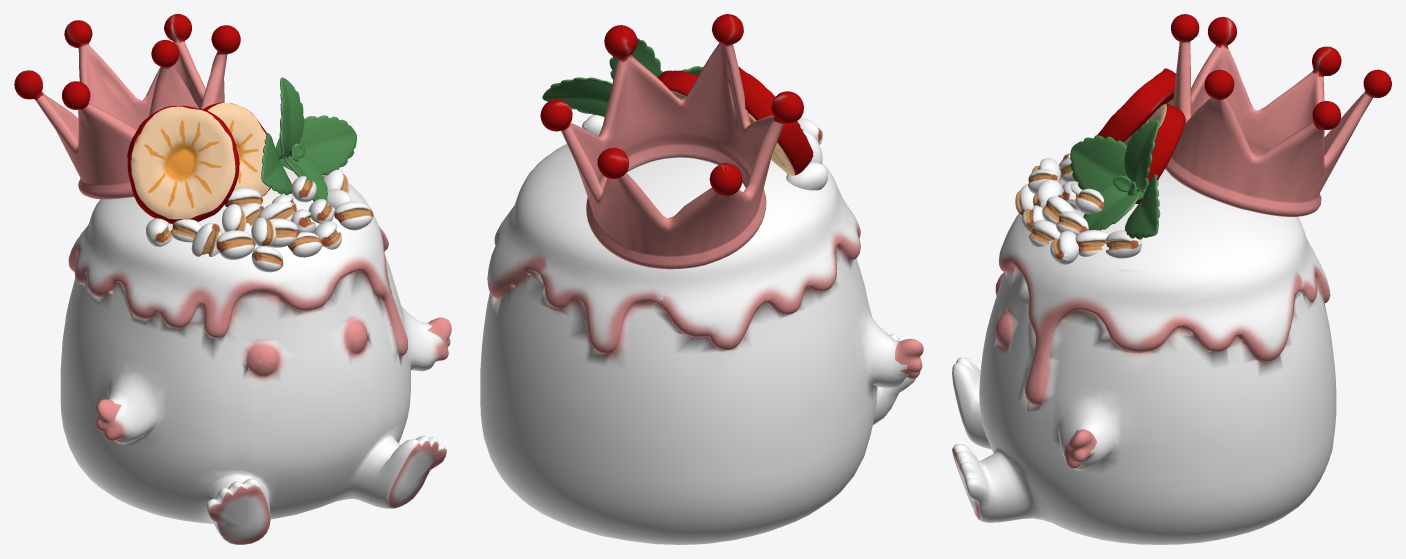
File: 清补凉精灵.glb
The picture shows the model from 3 angles, left to right: view 1: azimuth 30°, elevation 25°; view 2: azimuth 150°, elevation 25°; view 3: azimuth 270°, elevation 25°; orthographic projection. The views are drawn at different scales.
Visible parts, largest first — view 1: 身体, 皇冠, 红枣, 薄荷, 薏米.017, 薏米.018, 薏米.006, 薏米.010, 薏米.019, 薏米.011, 薏米.002, 薏米.005 (+5 smaller); view 2: 身体, 皇冠, 红枣, 薄荷, 薏米.005; view 3: 身体, 皇冠, 薄荷, 红枣, 薏米.003, 薏米.018, 薏米.007, 薏米.012, 薏米, 薏米.001, 薏米.009, 薏米.011.
Boxes of the visible parts, x1,y1,x2,y2 form: 身体: [60, 166, 451, 544]; 皇冠: [14, 14, 240, 199]; 红枣: [127, 102, 271, 223]; 薄荷: [261, 77, 356, 203]; 薏米.017: [216, 230, 255, 259]; 薏米.018: [334, 201, 373, 230]; 薏米.006: [191, 223, 222, 256]; 薏米.010: [251, 246, 283, 272]; 薏米.019: [288, 232, 322, 257]; 薏米.011: [268, 218, 299, 247]; 薏米.002: [251, 217, 276, 246]; 薏米.005: [146, 218, 172, 246]; 身体: [480, 144, 923, 544]; 皇冠: [540, 14, 803, 269]; 红枣: [657, 67, 813, 175]; 薄荷: [542, 37, 703, 117]; 薏米.005: [786, 162, 827, 190]; 身体: [952, 169, 1336, 544]; 皇冠: [1165, 14, 1391, 216]; 薄荷: [1070, 120, 1160, 239]; 红枣: [1097, 68, 1185, 203]; 薏米.003: [1105, 230, 1141, 258]; 薏米.018: [1050, 231, 1078, 264]; 薏米.007: [1075, 230, 1109, 256]; 薏米.012: [1029, 220, 1060, 246]; 薏米: [1075, 188, 1103, 213]; 薏米.001: [1056, 211, 1088, 235]; 薏米.009: [1042, 196, 1075, 224]; 薏米.011: [1032, 179, 1062, 207].
Bounding box in the file's own units: 1.03 × 1.25 × 1.08.
24 materials, 24 textured.
